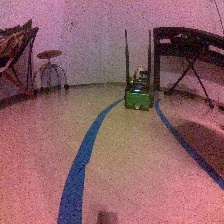rob: (123, 69, 154, 110)
